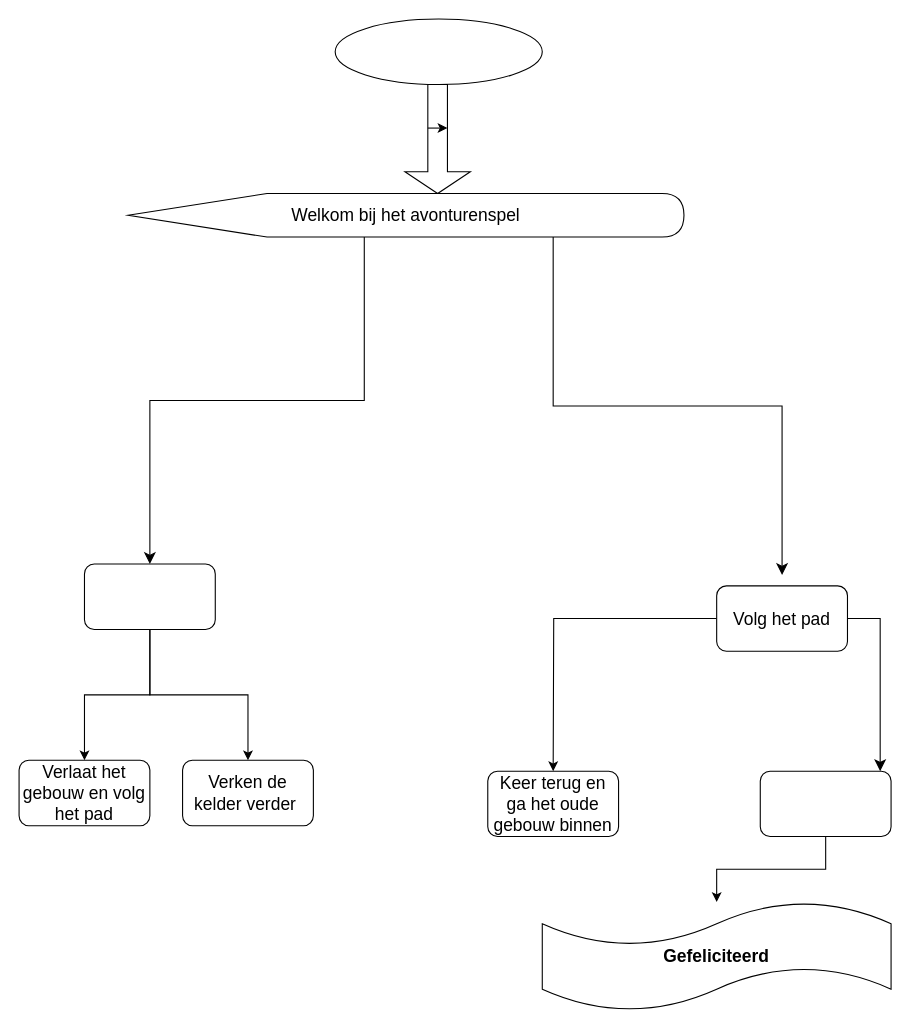
The diagram is 910 pixels wide and 1030 high, and some of its shapes have lost their labels. Each missing label, with the centre of its shape:
"Ga het oude gebouw binnen" goes at pixel 149 596.
"Start" goes at pixel 438 51.
"Steek de rivier over" goes at pixel 825 803.
